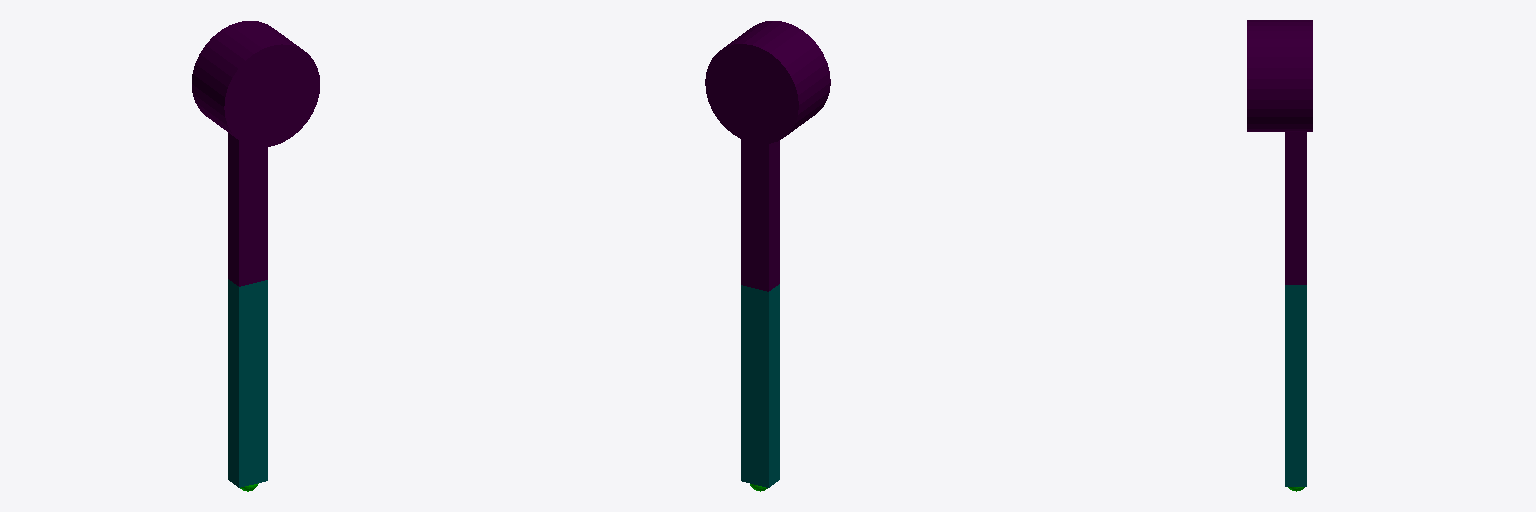
robot.urdf — camel_two_leg_bot:
<?xml version="1.0" ?>
<robot name="camel_two_leg_bot">
  <material name="green">
    <color rgba="0.0 0.8 0.0 0.7"/>
  </material>

  <material name="light_gray">
     <color rgba="0.75 0.75 0.75 0.7"/>
  </material>

  <material name="black1">
      <color rgba="0.25 0.0 0.25 0.7"/>
  </material>

  <material name="black2">
      <color rgba="0.0 0.35 0.35 0.7"/>
  </material>

  <material name="blue">
    <color rgba="0.0 0.0 0.8 0.7"/>
  </material>
<!--  BR leg-->
  <link name="BR-hip-motor">
    <visual>
      <origin rpy="1.570796 0 0" xyz="0 0 0"/>
      <geometry>
        <cylinder length="0.044" radius="0.05"/>
      </geometry>
      <material name="black1"/>
    </visual>

    <collision>
      <origin rpy="1.570796 0 0" xyz="0.0 0 0.0"/>
      <geometry>
        <cylinder length="0.044" radius="0.05"/>
      </geometry>
    </collision>

    <inertial>
      <mass value="0.7"/>
      <inertia ixx="0.000550433" ixy="0" ixz="0" iyy="0.000875" iyx="0" iyz="0" izz="0.000550433" izx="0" izy="0"/>
    </inertial>
  </link>

  <joint name="BR-hip-pitch" type="revolute">
    <origin rpy="0 0 0" xyz="0 0.022 0.0"/>
    <parent link="BR-hip-motor"/>
    <child link="BR-knee-motor"/>
    <axis xyz="0.0 1 0.0"/>
  </joint>

  <link name="BR-knee-motor">
    <visual>
      <origin rpy="1.570796 0 0" xyz="0 0 0"/>
      <geometry>
        <cylinder length="0.03" radius="0.05"/>
      </geometry>
      <material name="black1"/>
    </visual>

    <collision>
      <origin rpy="1.570796 0 0" xyz="0.0 0 0.0"/>
      <geometry>
        <cylinder length="0.03" radius="0.05"/>
      </geometry>
    </collision>

    <inertial>
      <mass value="0.8"/>
      <inertia ixx="0.00056" ixy="0" ixz="0" iyy="0.001" iyx="0" iyz="0" izz="0.00056" izx="0" izy="0"/>
    </inertial>
  </link>

  <joint name="BR-hip-fixed" type="fixed">
    <origin rpy="0 0 0" xyz="0 0 0"/>
    <parent link="BR-knee-motor"/>
    <child link="BR_upper_leg"/>
  </joint>

  <link name="BR_upper_leg">
    <visual>
      <origin rpy="0 0 0" xyz="0 0 -0.1"/>
      <geometry>
        <box size="0.03 0.02 0.2"/>
      </geometry>
      <material name="black1"/>
    </visual>

    <collision>
      <origin rpy="0 0 0" xyz="0.0 0 -0.1"/>
      <geometry>
        <box size="0.03 0.02 0.2"/>
      </geometry>
    </collision>

    <inertial>
      <mass value="0.2"/>
      <inertia ixx="0.00067333" ixy="0" ixz="0" iyy="0.00068167" iyx="0" iyz="0" izz="0.00002167" izx="0" izy="0"/>
    </inertial>
  </link>

  <joint name="BR-knee-pitch" type="revolute">
    <origin rpy="0 0 0" xyz="0 0 -0.2"/>
    <parent link="BR_upper_leg"/>
    <child link="BR_lower_leg"/>
    <axis xyz="0 1 0"/>
  </joint>

  <link name="BR_lower_leg">
    <visual>
      <origin rpy="0 0 0" xyz="0 0 -0.1"/>
      <geometry>
        <box size="0.03 0.02 0.2"/>
      </geometry>
      <material name="black2"/>
    </visual>

    <collision>
      <origin rpy="0 0 0" xyz="0.0 0 -0.1"/>
      <geometry>
        <box size="0.03 0.02 0.2"/>
      </geometry>
    </collision>

    <inertial>
      <mass value="0.2"/>
      <inertia ixx="0.00067333" ixy="0" ixz="0" iyy="0.00068167" iyx="0" iyz="0" izz="0.00002167" izx="0" izy="0"/>
    </inertial>
  </link>

  <joint name="BR_foot_fixed" type="fixed">
    <origin rpy="0 0 0" xyz="0 0 -0.2"/>
    <parent link="BR_lower_leg"/>
    <child link="BR_foot"/>
  </joint>

  <link name="BR_foot">
    <visual>
      <origin rpy="0 0 0" xyz="0 0 0"/>
      <geometry>
        <sphere radius="0.01"/>
      </geometry>
      <material name="green"/>
    </visual>
    <collision>
      <origin rpy="0 0 0" xyz="0 0 0"/>
      <geometry>
        <sphere radius="0.02"/>
      </geometry>
    </collision>
    <inertial>
      <mass value="0.06"/>
      <inertia ixx="9.6e-06" ixy="0.0" ixz="0.0" iyy="9.6e-06" iyz="0.0" izz="9.6e-06"/>
    </inertial>
  </link>

</robot>

--- Facts derived from the render (not from the file) ---
Views: 3 orthographic renders of the robot side by side, from view 1: azimuth 30°, elevation 25°; view 2: azimuth 150°, elevation 25°; view 3: azimuth 270°, elevation 25°.
Model camel_two_leg_bot with 5 links and 4 joints (2 revolute, 2 fixed), rooted at BR-hip-motor, posed all joints at 0.
Visible links, largest first — view 1: BR-hip-motor, BR_lower_leg, BR_upper_leg, BR-knee-motor; view 2: BR-knee-motor, BR_lower_leg, BR_upper_leg, BR-hip-motor; view 3: BR-hip-motor, BR_lower_leg, BR_upper_leg, BR-knee-motor.
Boxes of the visible links, x1,y1,x2,y2 form: BR-hip-motor: (200,27,319,147); BR_lower_leg: (228,279,267,487); BR_upper_leg: (228,133,267,286); BR-knee-motor: (192,21,278,127); BR-knee-motor: (705,33,813,144); BR_lower_leg: (741,284,779,487); BR_upper_leg: (741,139,779,291); BR-hip-motor: (737,21,830,125); BR-hip-motor: (1247,20,1295,131); BR_lower_leg: (1285,285,1306,486); BR_upper_leg: (1285,132,1306,284); BR-knee-motor: (1279,20,1312,131).
Size in the robot's own frame: 0.1 by 0.059 by 0.46 metres.
Geometry: primitives only (box / cylinder / sphere), no mesh files.